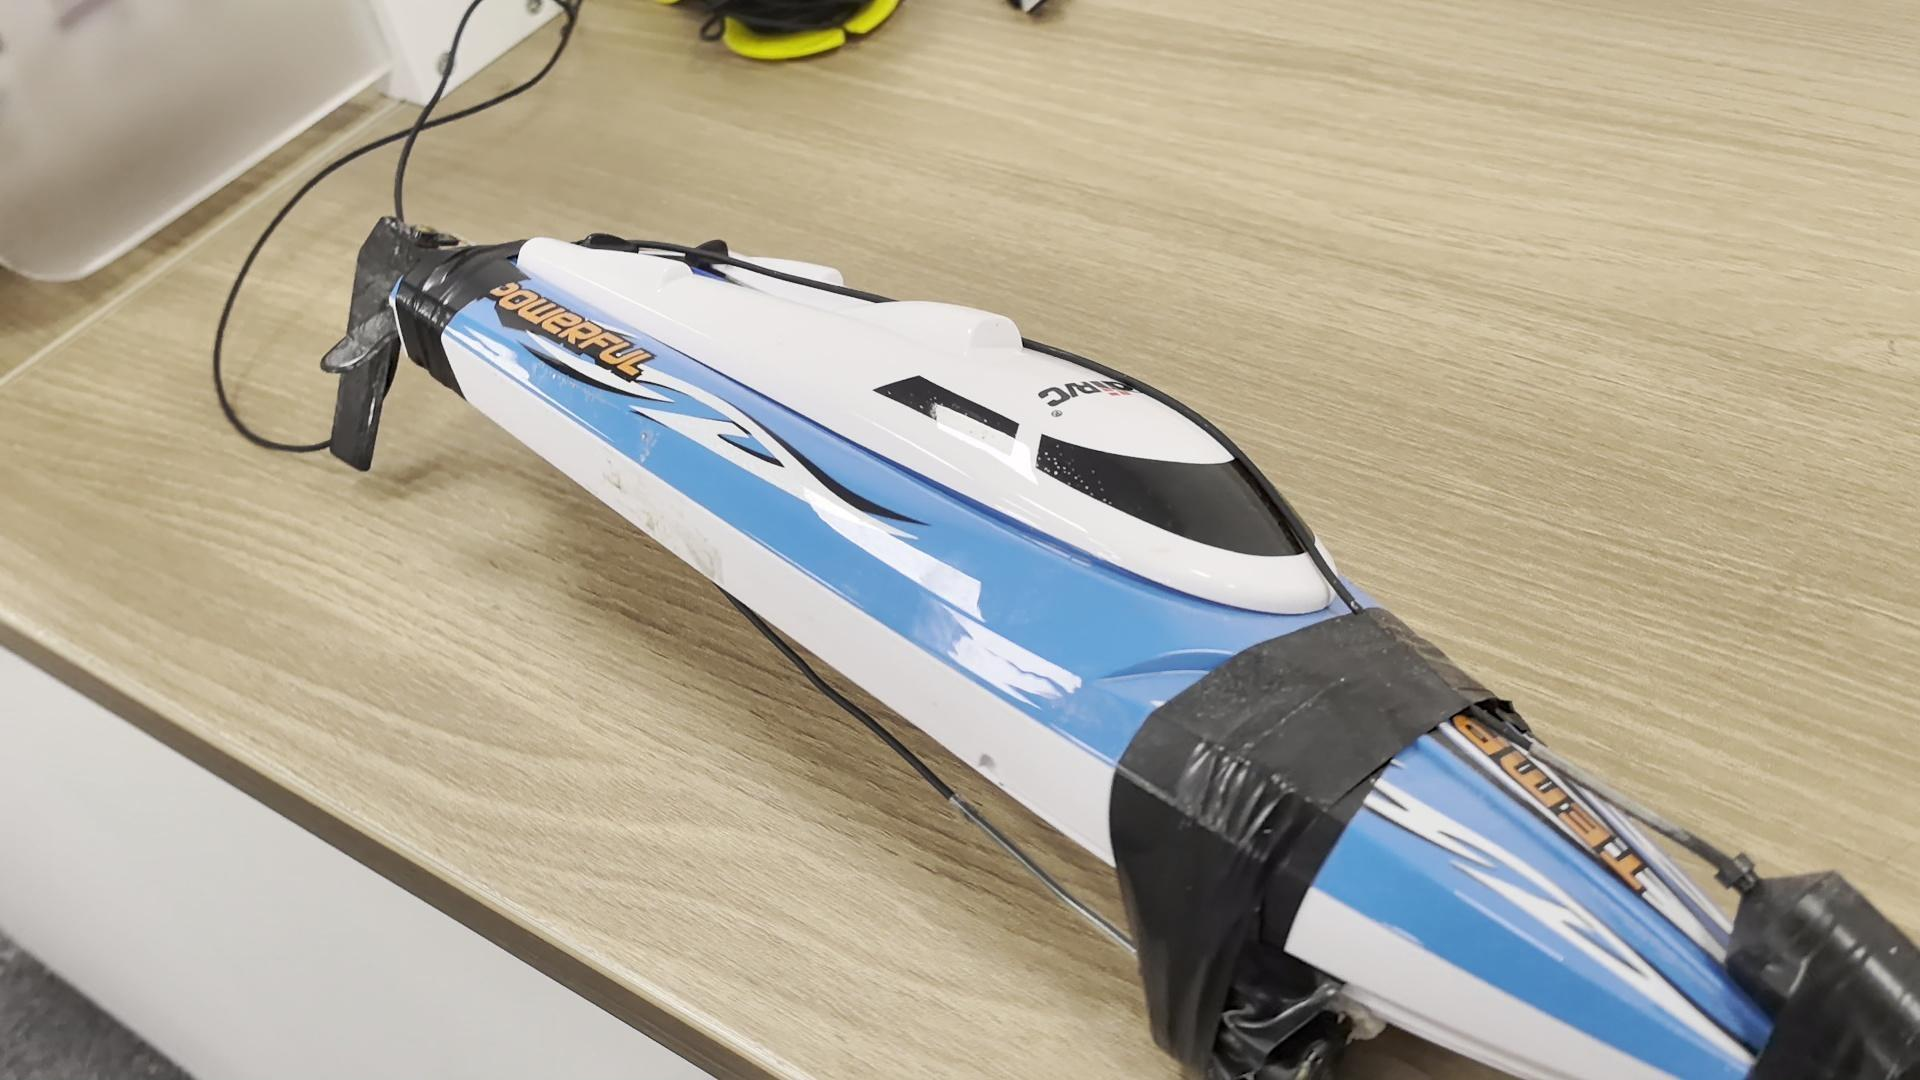Boat: (339, 214, 1895, 1073)
